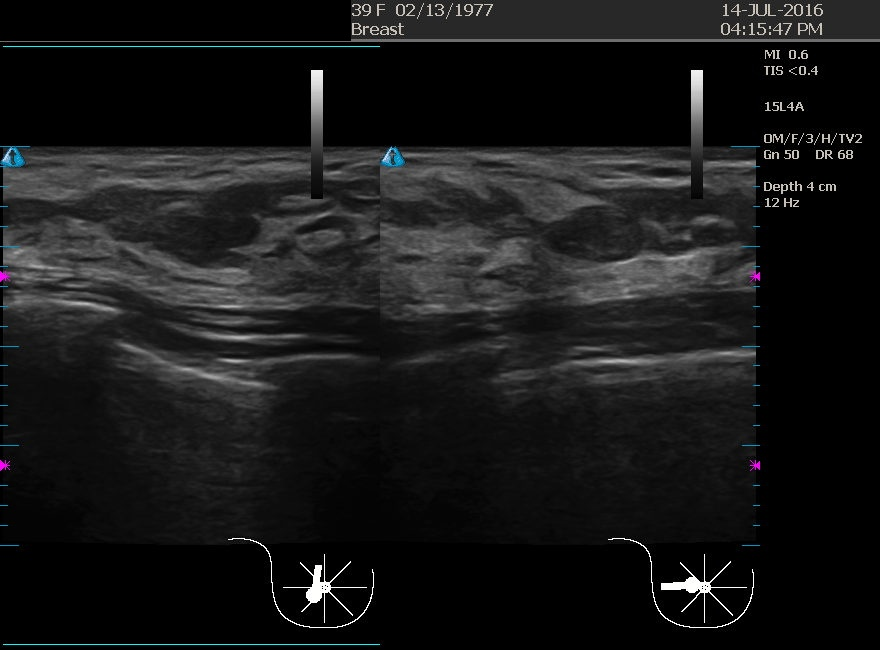Benign: (83, 155, 283, 355), (486, 177, 686, 377)
